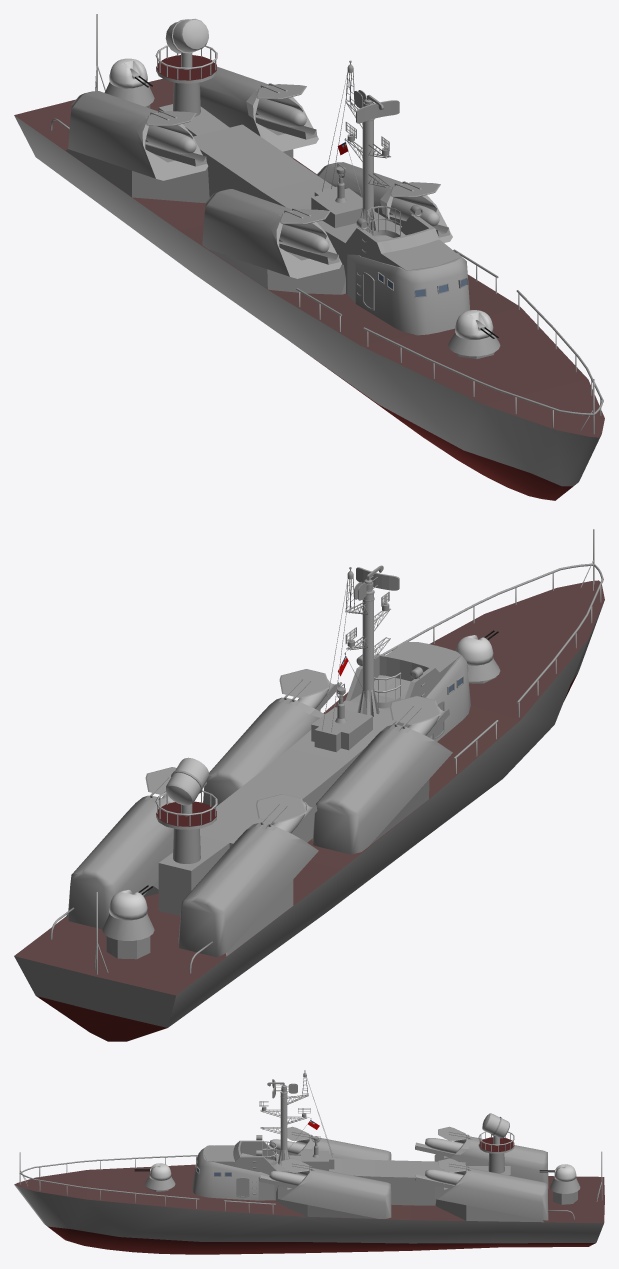
Rendered from Osa-ClassMissileBoat.fbx.
3 renders of one model, top to bottom at view 1: azimuth 30°, elevation 25°; view 2: azimuth 150°, elevation 25°; view 3: azimuth 270°, elevation 25°, orthographic. The views are drawn at different scales.
Parts seen in each view (by area): view 1: Osa_body, AK230_rear_turret, AK230_front_turret; view 2: Osa_body, AK230_rear_turret, AK230_front_turret; view 3: Osa_body, AK230_front_turret, AK230_rear_turret.
Boxes of the visible parts, x1,y1,x2,y2 form: Osa_body: (14,14,604,500); AK230_rear_turret: (109,58,147,88); AK230_front_turret: (455,310,493,339); Osa_body: (14,529,604,1041); AK230_rear_turret: (109,890,147,920); AK230_front_turret: (455,635,493,665); Osa_body: (14,1070,604,1254); AK230_front_turret: (149,1163,171,1180); AK230_rear_turret: (554,1164,576,1181).
Bounding box in the file's own units: 0.6105 × 1.11 × 3.27.
